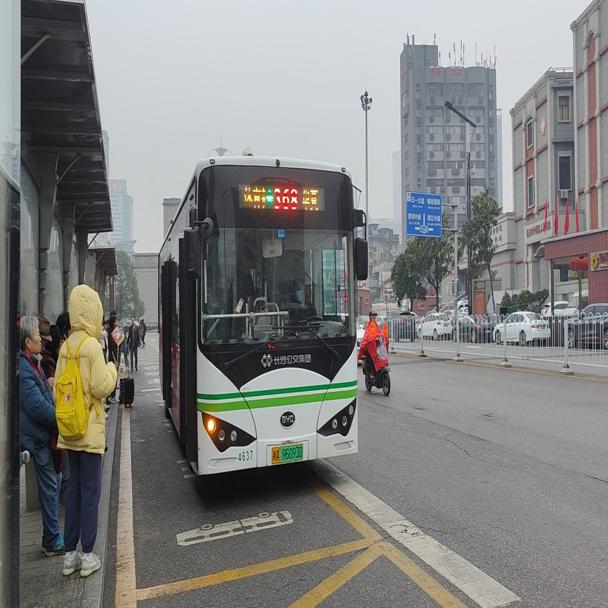bus: (157, 153, 358, 472)
screen: (273, 184, 296, 211)
